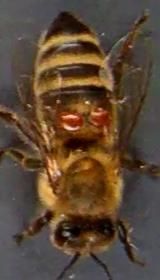varroa_mite: (82, 102, 115, 132), (56, 109, 84, 133)
